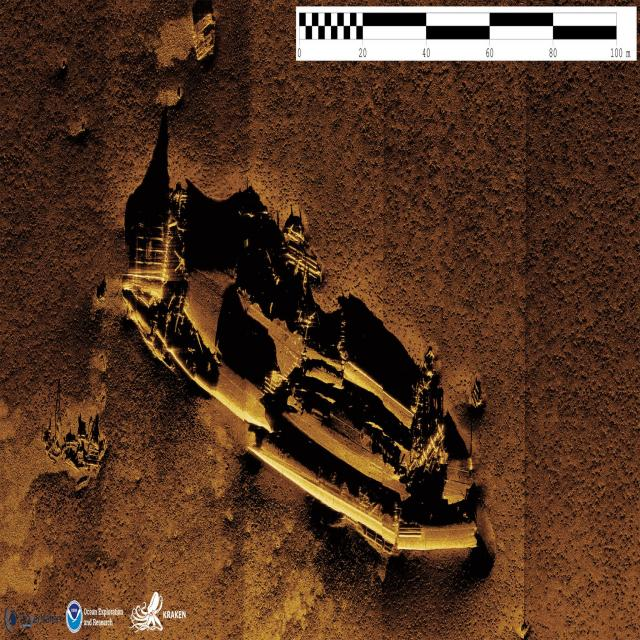ship: (112, 183, 480, 558)
